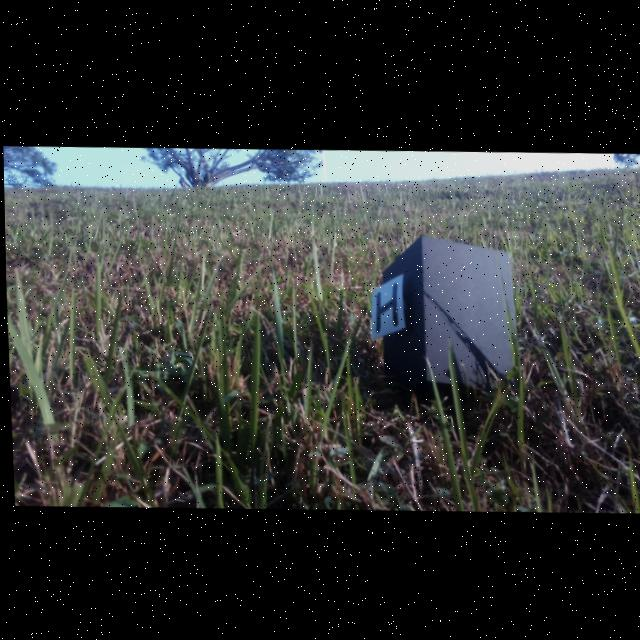H: (374, 281, 396, 331)
